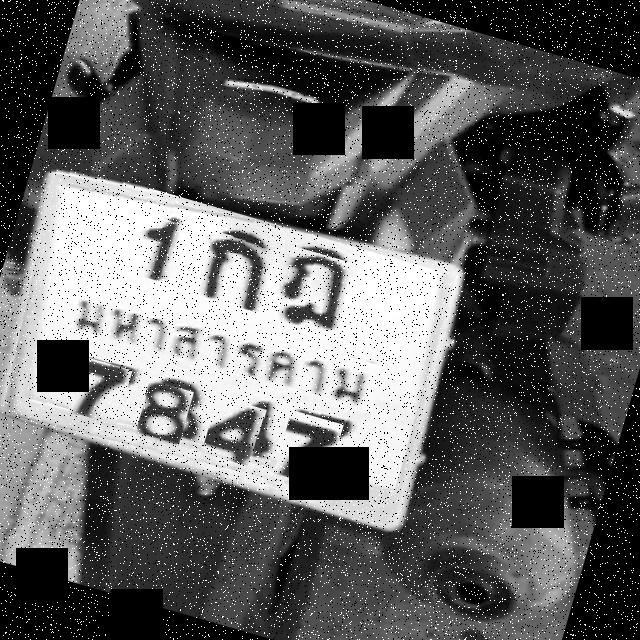letters: (266, 244, 357, 340), (195, 228, 276, 312), (274, 409, 344, 488), (122, 212, 194, 288), (65, 355, 132, 426), (200, 395, 266, 466), (132, 379, 194, 448)
license-plate: (27, 177, 455, 512)
province: (67, 280, 385, 424)
